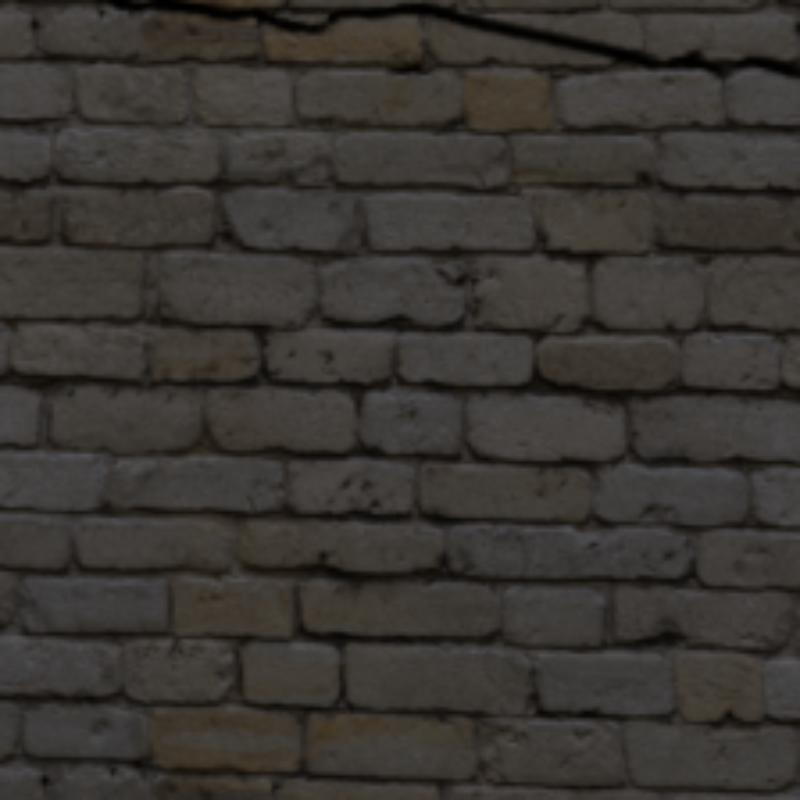crack: (107, 0, 796, 75)
